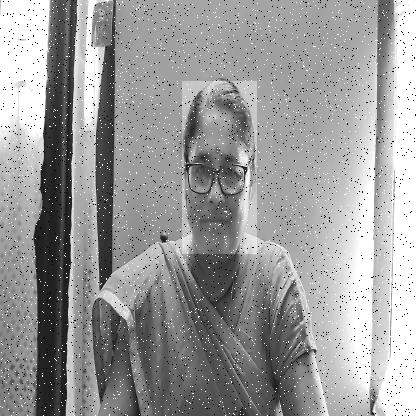Normal: (182, 81, 257, 254)
